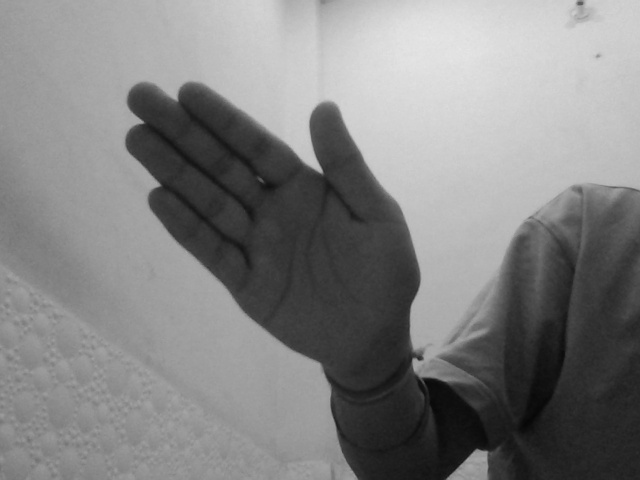Hello: (119, 77, 423, 365)
